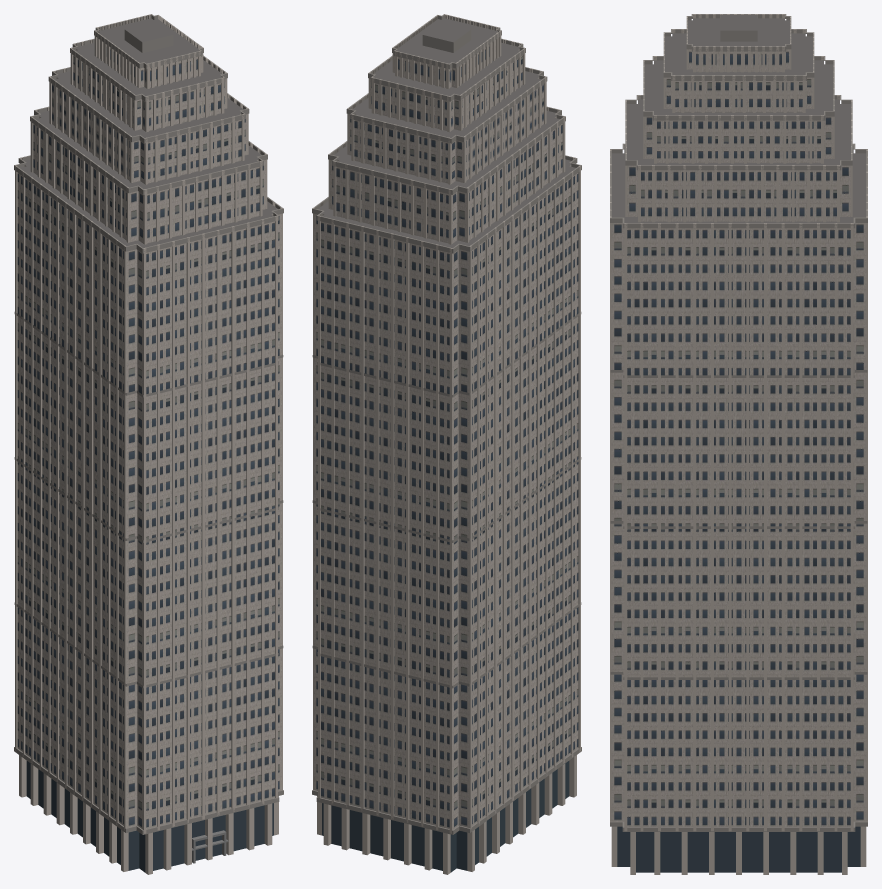
Rendered from fremont_50.glb.
3 renders of one model, left to right at view 1: azimuth 30°, elevation 25°; view 2: azimuth 150°, elevation 25°; view 3: azimuth 270°, elevation 25°, orthographic. The views are drawn at different scales.
Parts seen in each view (by area): view 1: fremont_50; view 2: fremont_50; view 3: fremont_50.
Boxes of the visible parts, box(x1,y1,x2,y2) form: fremont_50: box(14, 14, 283, 874); fremont_50: box(312, 14, 581, 874); fremont_50: box(610, 14, 867, 874).
Size of the model in its own units: 38.6 by 183 by 52.59.
2 materials, 2 textured.
